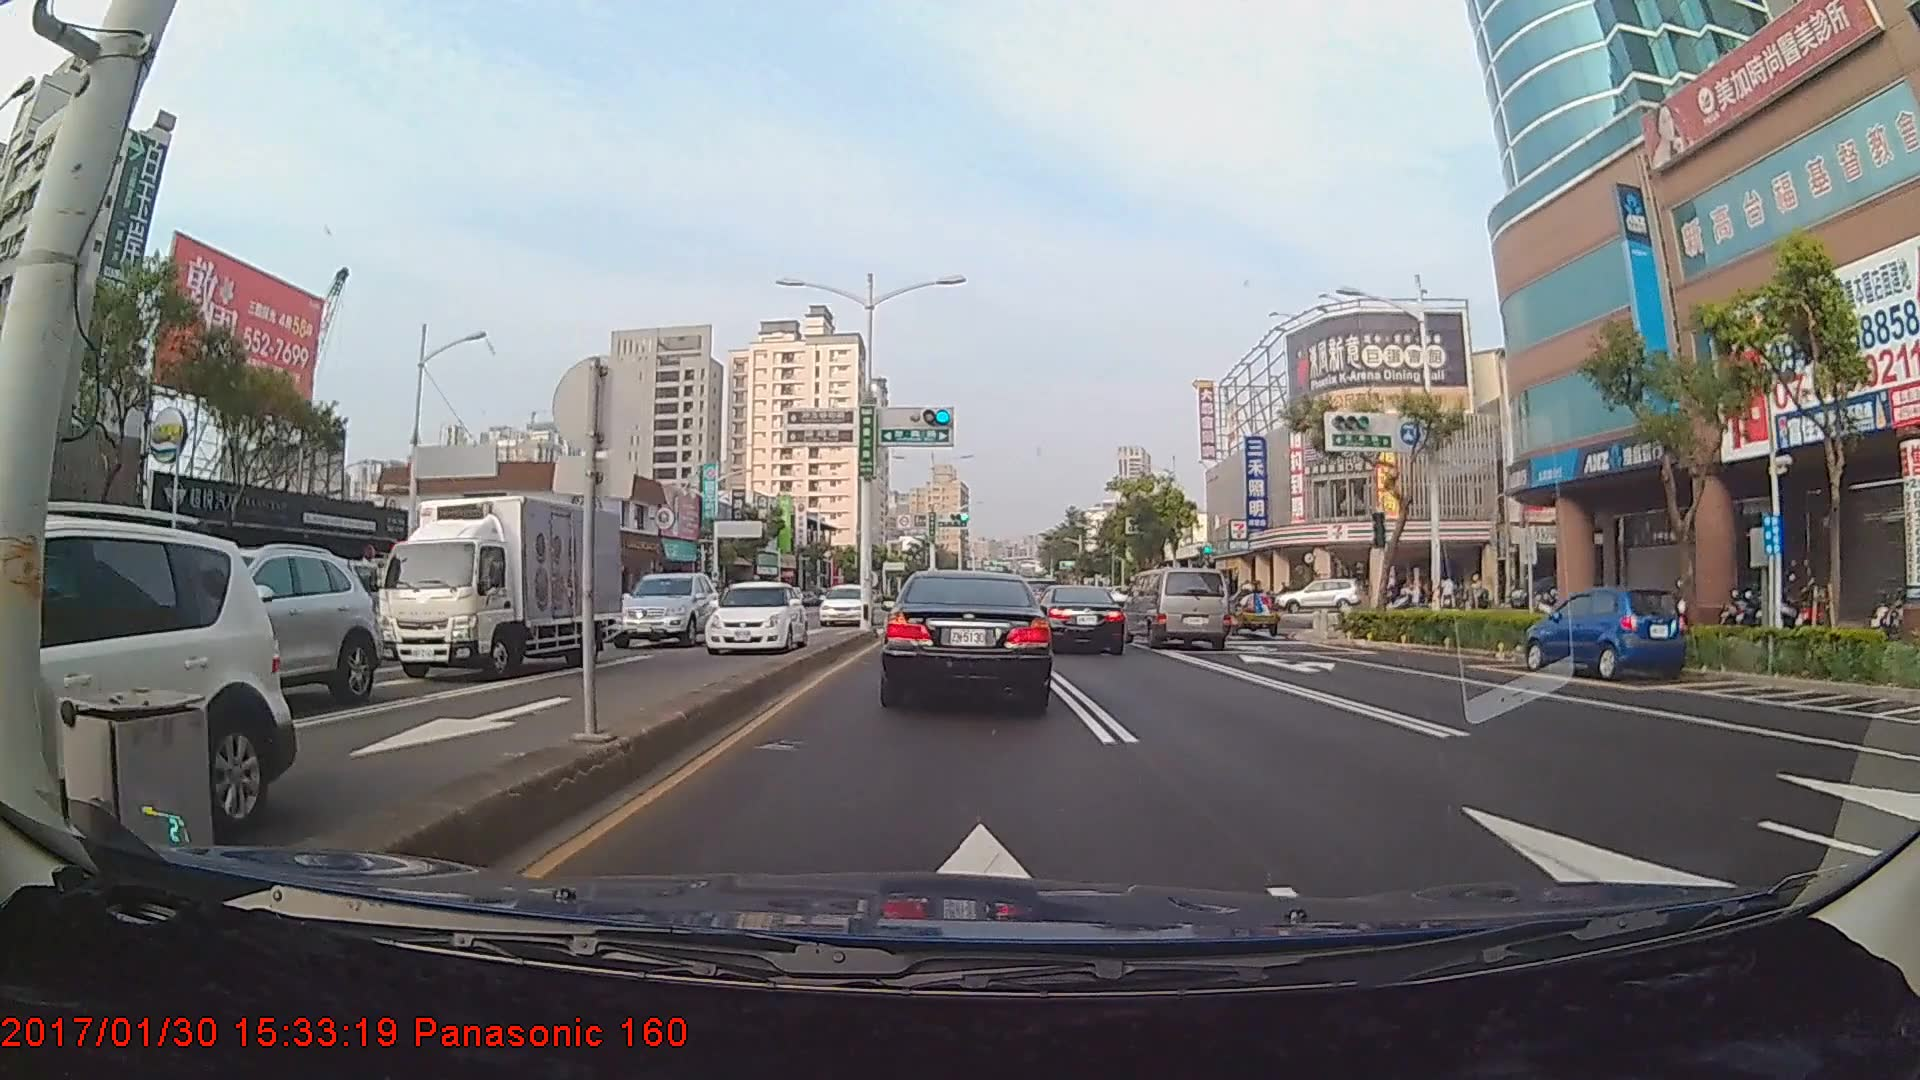vehicle: (0, 520, 276, 868), (371, 491, 622, 680), (107, 541, 375, 709), (884, 567, 1052, 709), (1528, 584, 1683, 680), (600, 566, 715, 647), (1122, 567, 1229, 651), (702, 578, 808, 653), (1039, 584, 1127, 654), (1276, 579, 1362, 615), (815, 582, 868, 626)
